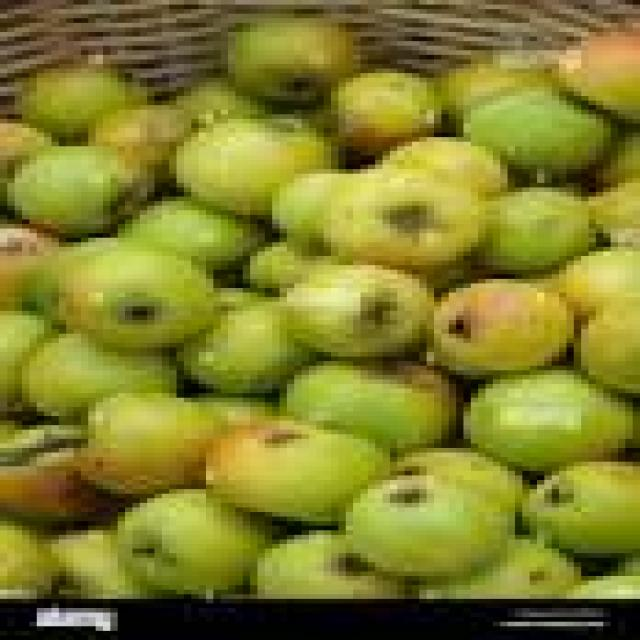apple: (206, 416, 389, 525), (464, 366, 639, 475), (346, 476, 514, 580), (59, 238, 213, 351), (324, 165, 485, 269), (118, 490, 272, 598), (280, 362, 463, 452), (177, 115, 338, 214), (81, 394, 220, 498), (464, 87, 610, 182), (280, 266, 434, 356), (435, 279, 573, 379), (23, 334, 176, 420), (177, 302, 316, 393), (229, 14, 360, 105), (8, 147, 139, 237), (0, 426, 117, 525), (118, 197, 264, 274), (523, 462, 639, 557), (15, 60, 147, 141), (479, 188, 595, 278), (251, 531, 404, 598), (332, 69, 441, 159), (420, 540, 581, 598), (390, 444, 529, 511), (552, 28, 639, 123), (435, 51, 551, 118), (89, 106, 191, 178), (52, 526, 154, 598), (383, 138, 507, 196), (273, 170, 353, 251), (574, 298, 639, 397), (552, 247, 639, 315), (0, 311, 51, 415), (0, 224, 58, 310), (243, 243, 338, 292), (170, 78, 264, 127), (0, 522, 58, 598), (0, 119, 51, 205), (589, 174, 639, 246), (596, 133, 639, 187), (567, 572, 639, 598)
